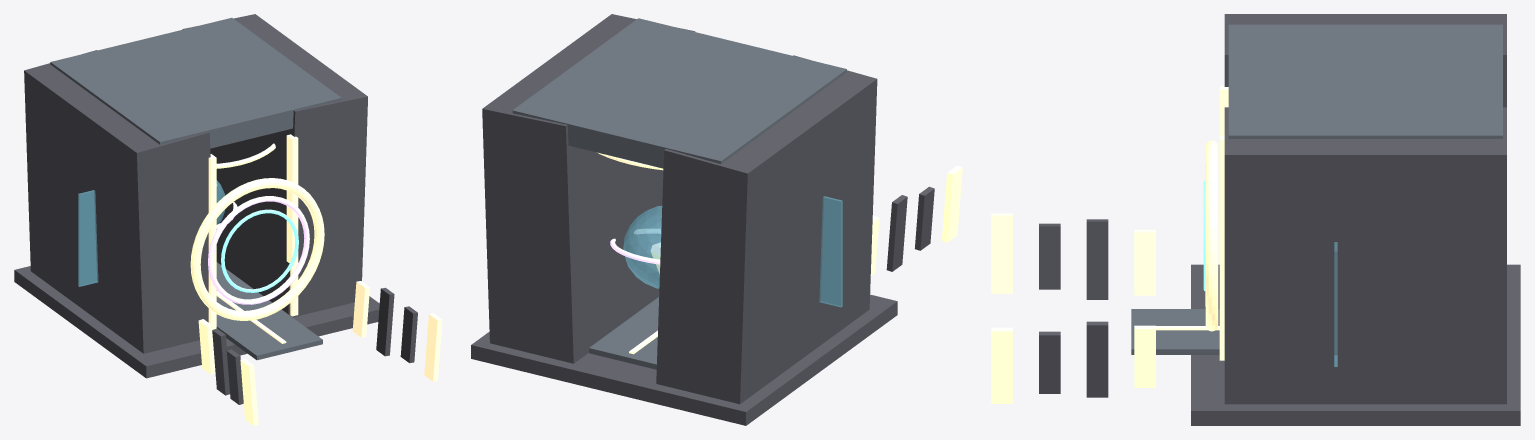
File: vault-reveal-gallery-lod0.3597f841e1e7.glb
3 views of the same model, side by side, from view 1: azimuth 30°, elevation 25°; view 2: azimuth 150°, elevation 25°; view 3: azimuth 270°, elevation 25° (orthographic). The views are drawn at different scales.
Parts seen in each view (by area): view 1: vault_monolith_-1, vault_monolith_1, vault_crown, vault_foundation, vault_entry_outer, gallery_spine, vault_entry_mid, vault_side_recess_-1, vault_gold_rib_1, vault_entry_inner, vault_gold_rib_-1, approach_fin_7 (+7 smaller); view 2: vault_monolith_-1, vault_monolith_1, vault_crown, vault_foundation, gallery_spine, vault_side_recess_-1, reveal_chamber, approach_fin_2, approach_fin_6, approach_fin_4; view 3: vault_monolith_1, vault_crown, vault_foundation, vault_monolith_-1, gallery_spine, vault_entry_outer, approach_fin_2, approach_fin_6, approach_fin_3, approach_fin_7, approach_fin_0, approach_fin_4 (+4 smaller).
Boxes of the visible parts, left/top/right/bottom form: vault_monolith_-1: left=24, top=50, right=210, bottom=353; vault_monolith_1: left=182, top=14, right=367, bottom=317; vault_crown: left=50, top=17, right=341, bottom=148; vault_foundation: left=14, top=266, right=379, bottom=378; vault_entry_outer: left=190, top=178, right=324, bottom=320; gallery_spine: left=216, top=262, right=322, bottom=360; vault_entry_mid: left=208, top=196, right=309, bottom=304; vault_side_recess_-1: left=78, top=190, right=98, bottom=286; vault_gold_rib_1: left=286, top=134, right=298, bottom=316; vault_entry_inner: left=221, top=209, right=298, bottom=292; vault_gold_rib_-1: left=208, top=154, right=216, bottom=329; approach_fin_7: left=424, top=313, right=442, bottom=381; vault_monolith_-1: left=656, top=55, right=877, bottom=404; vault_monolith_1: left=482, top=14, right=695, bottom=363; vault_crown: left=512, top=18, right=846, bottom=168; vault_foundation: left=471, top=294, right=897, bottom=425; gallery_spine: left=589, top=297, right=658, bottom=369; vault_side_recess_-1: left=819, top=196, right=842, bottom=307; reveal_chamber: left=623, top=205, right=662, bottom=288; approach_fin_2: left=886, top=195, right=907, bottom=271; approach_fin_6: left=942, top=165, right=962, bottom=242; approach_fin_4: left=914, top=186, right=934, bottom=250; vault_monolith_1: left=1224, top=107, right=1506, bottom=404; vault_crown: left=1228, top=24, right=1502, bottom=138; vault_foundation: left=1191, top=264, right=1520, bottom=425; vault_monolith_-1: left=1224, top=14, right=1506, bottom=107; gallery_spine: left=1131, top=309, right=1219, bottom=354; vault_entry_outer: left=1205, top=140, right=1218, bottom=331; approach_fin_2: left=1086, top=219, right=1108, bottom=299; approach_fin_6: left=991, top=213, right=1012, bottom=293; approach_fin_3: left=1086, top=321, right=1108, bottom=397; approach_fin_7: left=991, top=327, right=1012, bottom=403; approach_fin_0: left=1134, top=229, right=1155, bottom=295; approach_fin_4: left=1039, top=223, right=1060, bottom=289.
Size of the model in its own units: 9.39 by 7.57 by 13.33.
